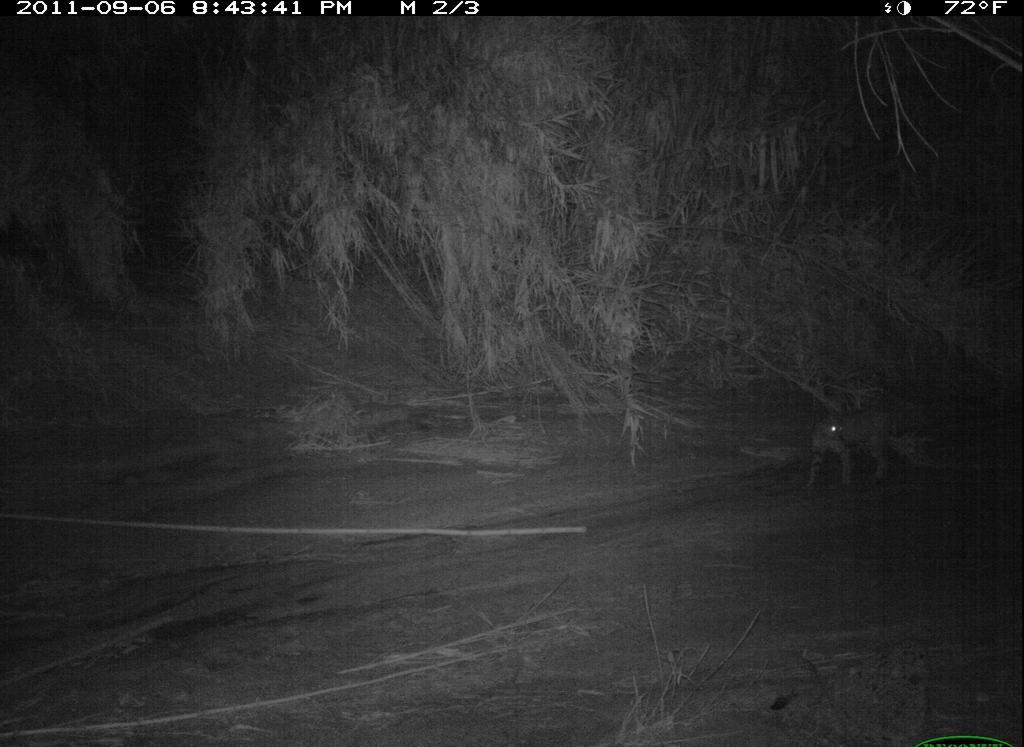bobcat: (793, 399, 908, 502)
